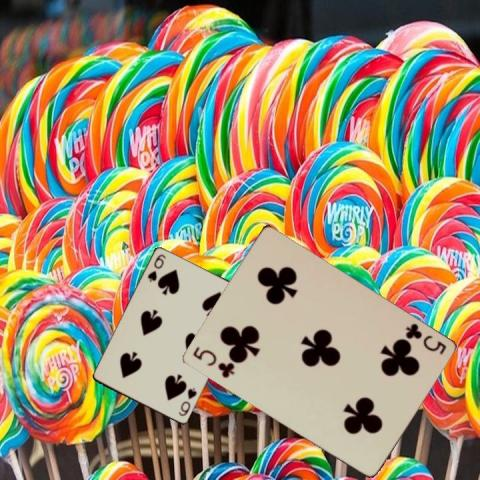5c: (190, 343, 236, 380), (402, 320, 447, 356)
6s: (175, 385, 198, 418), (145, 252, 167, 284)
